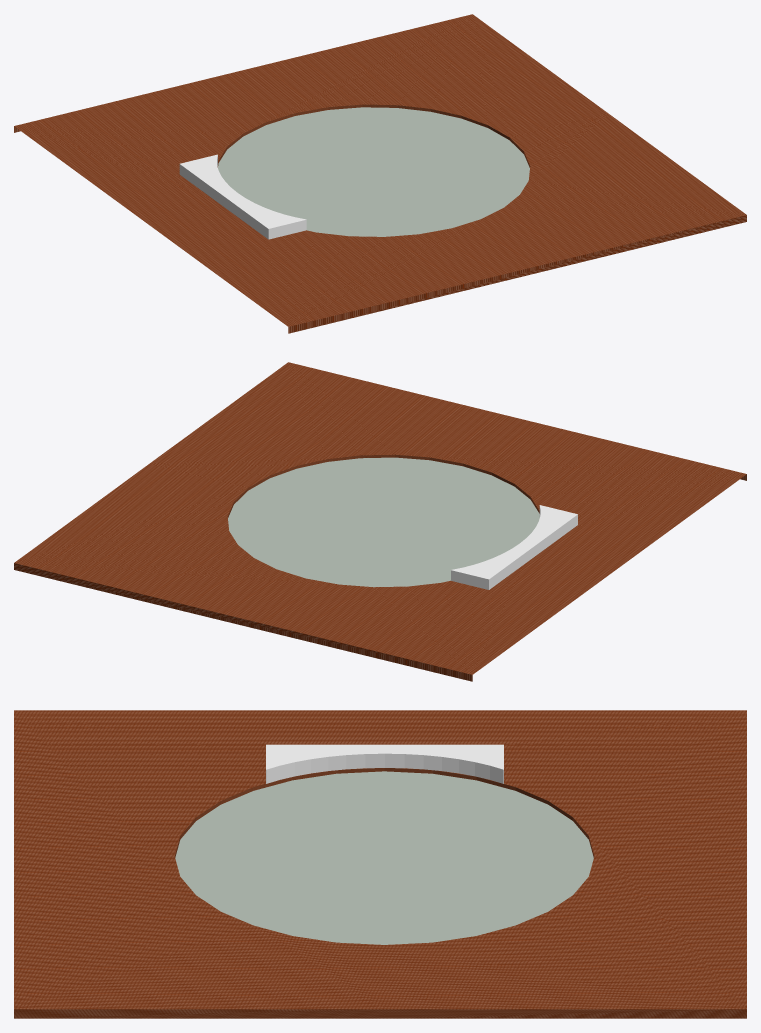
Rendered from Shot_Put.FBX.
3 views of the same model, one above another, from view 1: azimuth 30°, elevation 25°; view 2: azimuth 150°, elevation 25°; view 3: azimuth 270°, elevation 25° (orthographic). The views are drawn at different scales.
Visible parts, largest first — view 1: Shot_Put; view 2: Shot_Put; view 3: Shot_Put.
Part boxes in pixels (x1,y1,x2,y2): Shot_Put: (14, 14, 746, 333); Shot_Put: (14, 362, 746, 681); Shot_Put: (14, 710, 746, 1018).
Bounding box in the file's own units: 36.03 × 1.32 × 37.32.
